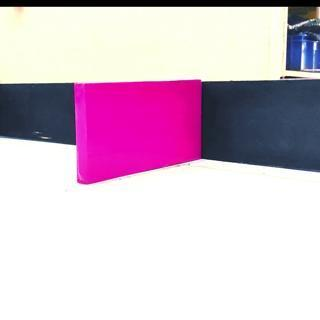xparking: (75, 82, 200, 176)
